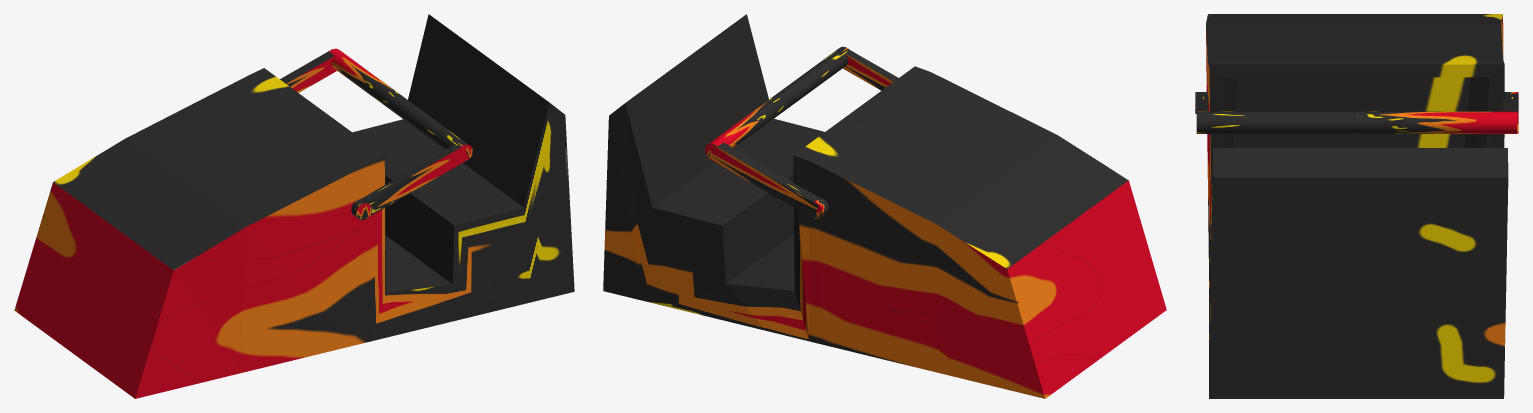
The model's file is carriage.obj.
3 views of the same model, side by side, from view 1: azimuth 30°, elevation 25°; view 2: azimuth 150°, elevation 25°; view 3: azimuth 270°, elevation 25° (orthographic). The views are drawn at different scales.
Visible parts, largest first — view 1: Carriage_Cube.003; view 2: Carriage_Cube.003; view 3: Carriage_Cube.003.
Part boxes in pixels (x1,y1,x2,y2): Carriage_Cube.003: (14,14,574,398); Carriage_Cube.003: (603,14,1166,398); Carriage_Cube.003: (1195,14,1518,398).
Size of the model in its own units: 1.68 by 0.7084 by 0.8767.
Materials: 1 (1 with a texture image).
